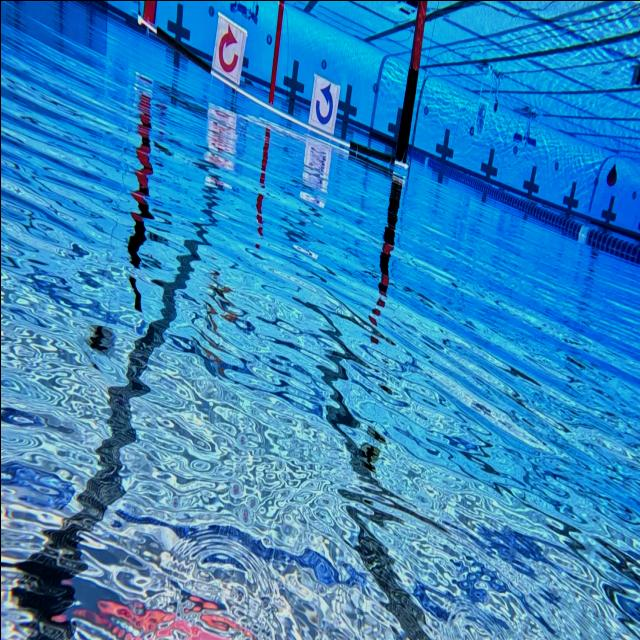blue_side: (307, 74, 337, 138)
red_side: (212, 16, 246, 84)
